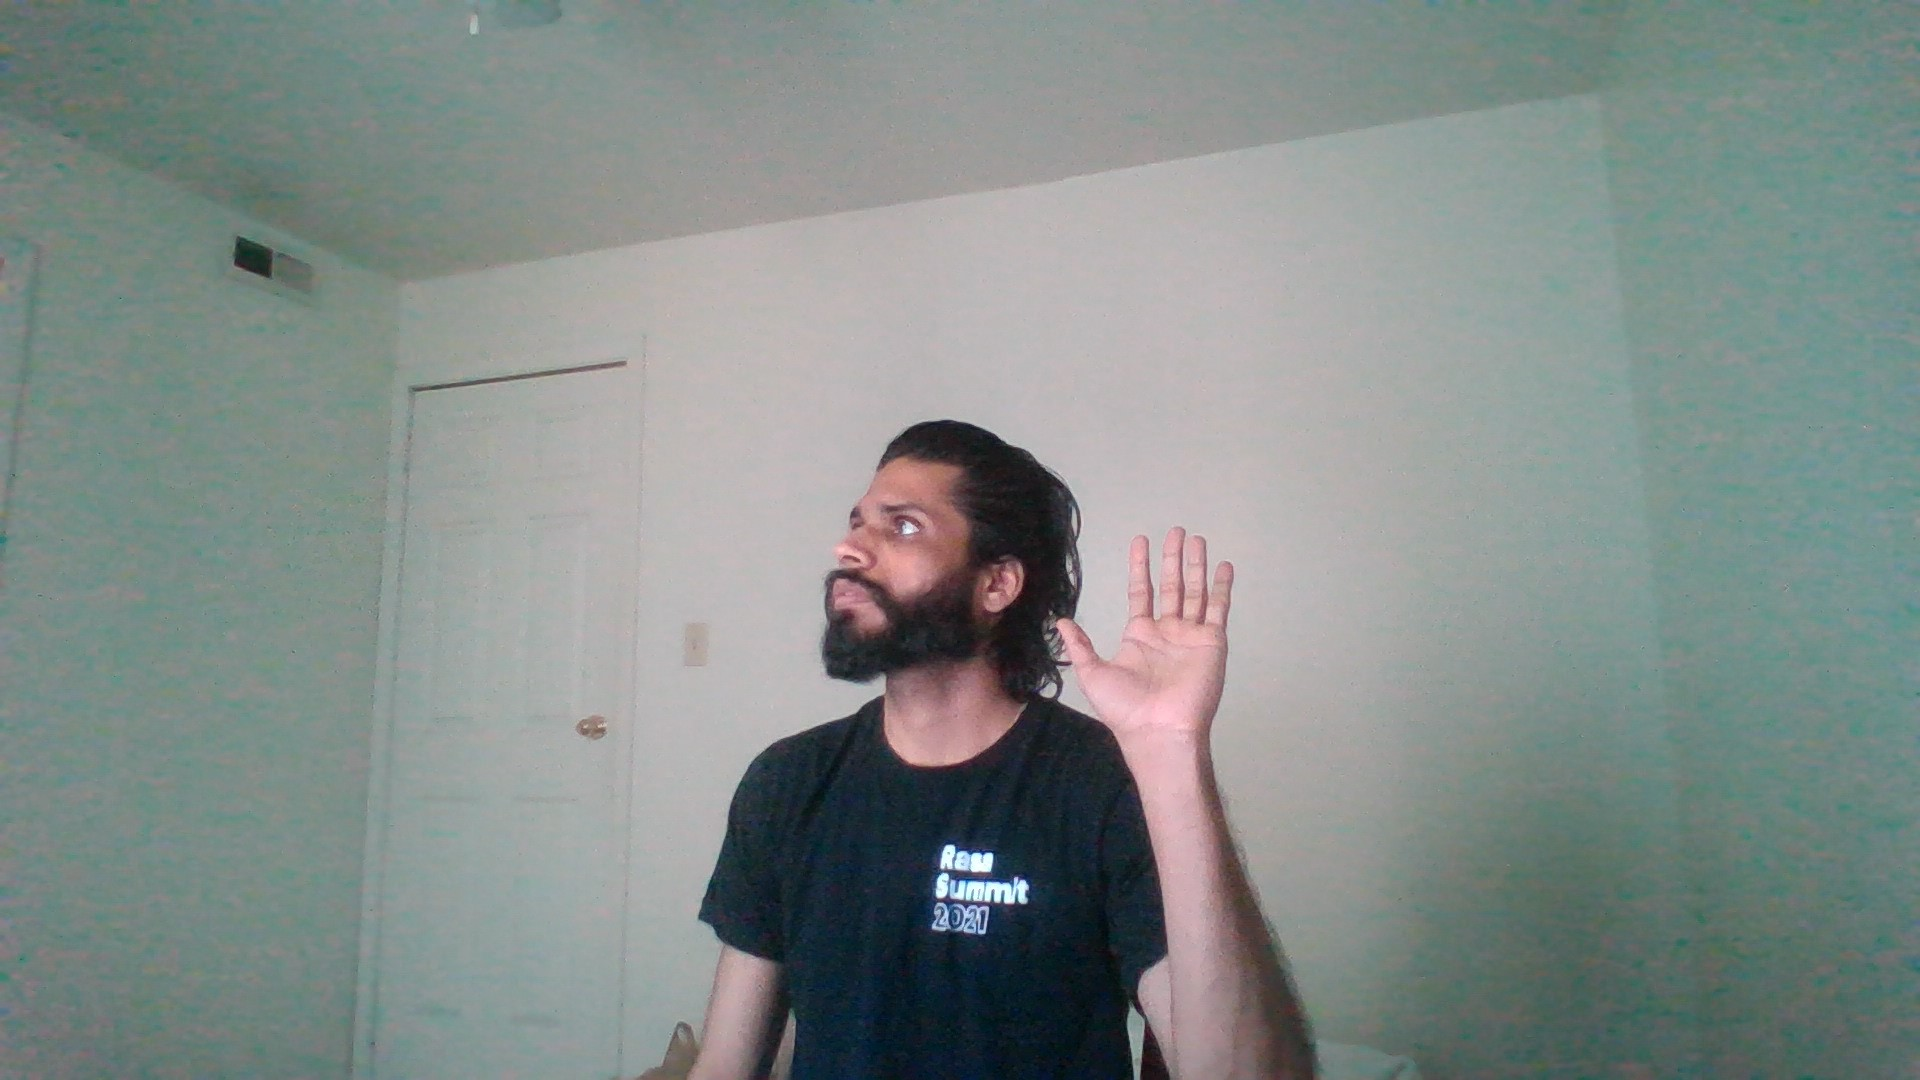Hello: (1040, 493, 1286, 779)
